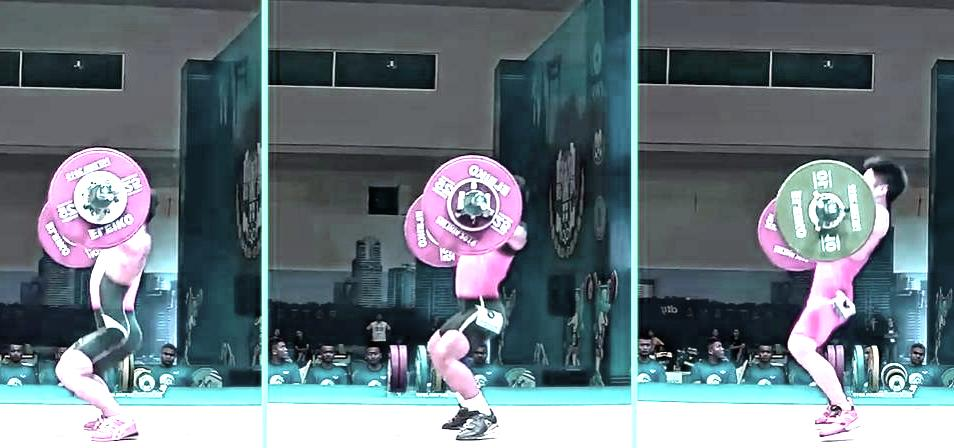Barbell: (89, 181, 112, 206), (820, 198, 840, 219), (466, 191, 488, 210)
